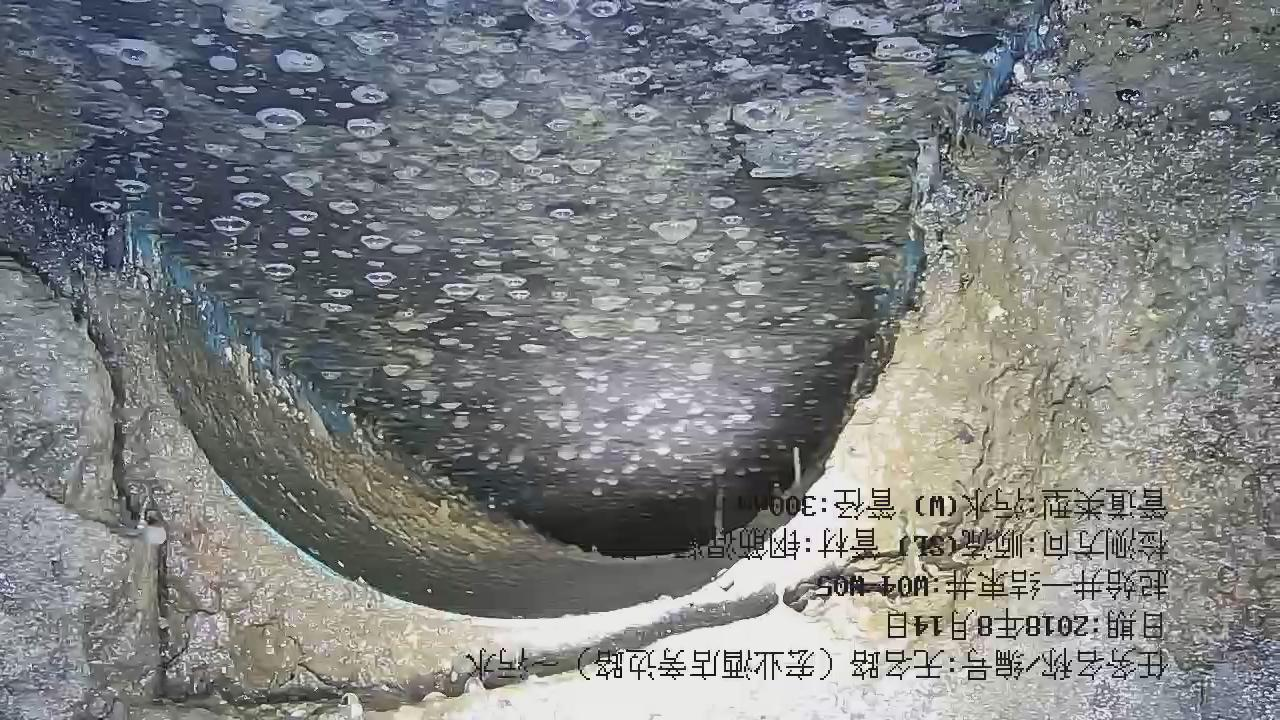FZ: (6, 1, 988, 555)
